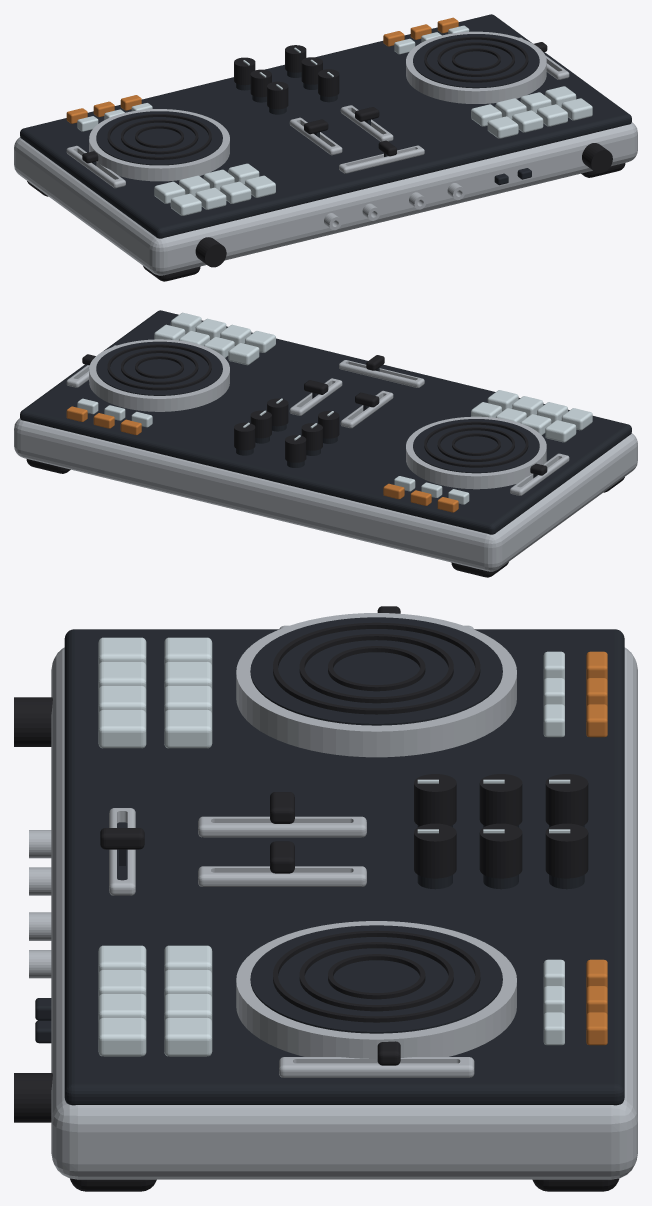
The model's file is A-NEW-20261026-DJ-CONTROLLER-001_LOD0_R1.glb.
The picture shows the model from 3 angles, top to bottom: view 1: azimuth 30°, elevation 25°; view 2: azimuth 150°, elevation 25°; view 3: azimuth 270°, elevation 25°; orthographic projection. The views are drawn at different scales.
Parts seen in each view (by area): view 1: black control deck, controller base, jog central platter.001, jog central platter, jog silver rim.001, jog silver rim, crossfader surround, concentric jog grip.005, concentric jog grip.002, pitch slot surround, front projecting knob, front projecting knob.001 (+28 smaller); view 2: black control deck, controller base, jog central platter.001, jog central platter, jog silver rim.001, jog silver rim, concentric jog grip.002, concentric jog grip.005, crossfader surround, pitch slot surround, concentric jog grip.004, concentric jog grip.001 (+20 smaller); view 3: black control deck, controller base, jog central platter.001, jog central platter, jog silver rim, jog silver rim.001, pitch slot surround.001, channel fader surround, channel fader surround.001, concentric jog grip.002, concentric jog grip.005, concentric jog grip.004 (+31 smaller).
Boxes of the visible parts, box(x1,y1,x2,y2) form: black control deck: box(20, 14, 631, 238); controller base: box(14, 122, 637, 275); jog central platter.001: box(413, 34, 539, 88); jog central platter: box(96, 111, 222, 165); jog silver rim.001: box(406, 31, 546, 103); jog silver rim: box(89, 109, 229, 181); crossfader surround: box(339, 145, 424, 173); concentric jog grip.005: box(424, 36, 528, 82); concentric jog grip.002: box(107, 114, 211, 159); pitch slot surround: box(66, 145, 125, 188); front projecting knob: box(195, 237, 226, 267); front projecting knob.001: box(582, 143, 612, 173); black control deck: box(20, 310, 631, 534); controller base: box(14, 418, 637, 571); jog central platter.001: box(96, 341, 222, 395); jog central platter: box(413, 419, 539, 473); jog silver rim.001: box(89, 339, 229, 411); jog silver rim: box(406, 416, 546, 489); concentric jog grip.002: box(424, 421, 528, 467); concentric jog grip.005: box(107, 344, 211, 390); crossfader surround: box(339, 360, 424, 387); pitch slot surround: box(510, 453, 569, 495); concentric jog grip.004: box(121, 350, 198, 384); concentric jog grip.001: box(437, 427, 514, 461); black control deck: box(64, 629, 624, 1105); controller base: box(51, 647, 637, 1179); jog central platter.001: box(250, 925, 502, 1033); jog central platter: box(250, 617, 502, 725); jog silver rim: box(236, 613, 516, 757); jog silver rim.001: box(236, 921, 516, 1058); pitch slot surround.001: box(279, 1057, 474, 1077); channel fader surround: box(198, 816, 366, 837); channel fader surround.001: box(198, 866, 366, 886); concentric jog grip.002: box(273, 622, 480, 714); concentric jog grip.005: box(273, 930, 480, 1022); concentric jog grip.004: box(299, 942, 453, 1011).
Size of the model in its own units: 0.63 by 0.1025 by 0.351.
